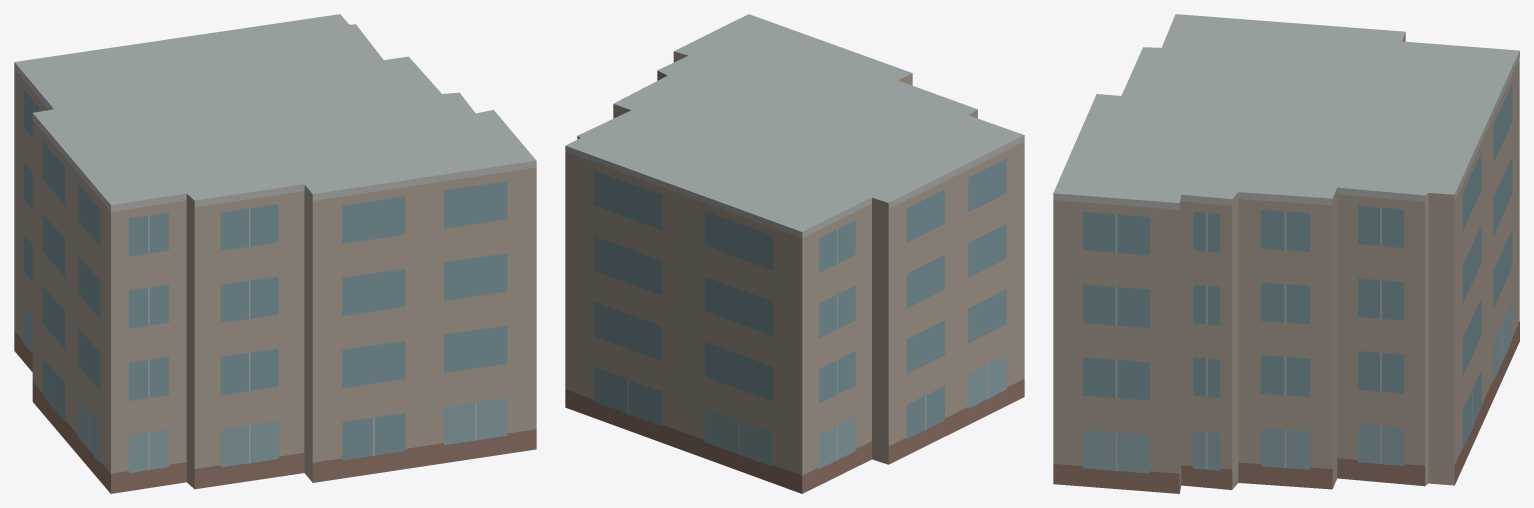
The model's file is survey-upis-32965276.glb.
The picture shows the model from 3 angles, left to right: view 1: azimuth 30°, elevation 25°; view 2: azimuth 150°, elevation 25°; view 3: azimuth 270°, elevation 25°; orthographic projection. The views are drawn at different scales.
Parts seen in each view (by area): view 1: survey-upis-32965276.tmp; view 2: survey-upis-32965276.tmp; view 3: survey-upis-32965276.tmp.
Part boxes in pixels (x1,y1,x2,y2): survey-upis-32965276.tmp: (14,14,536,493); survey-upis-32965276.tmp: (565,14,1024,493); survey-upis-32965276.tmp: (1053,14,1519,493).
Size of the model in its own units: 14.52 by 10.4 by 15.14.
